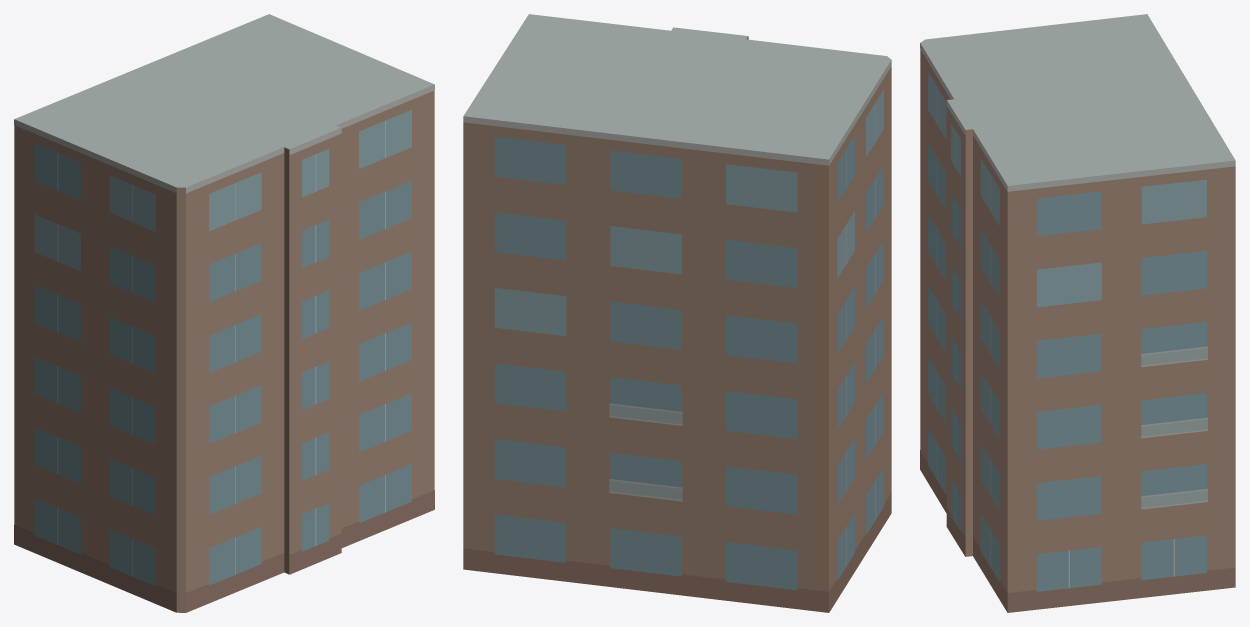
The model's file is survey-upis-32664352.glb.
3 renders of one model, left to right at view 1: azimuth 30°, elevation 25°; view 2: azimuth 150°, elevation 25°; view 3: azimuth 270°, elevation 25°, orthographic. The views are drawn at different scales.
Visible parts, largest first — view 1: survey-upis-32664352.tmp; view 2: survey-upis-32664352.tmp; view 3: survey-upis-32664352.tmp.
Part boxes in pixels (left/top/right/bottom): survey-upis-32664352.tmp: left=14, top=14, right=434, bottom=612; survey-upis-32664352.tmp: left=463, top=14, right=891, bottom=612; survey-upis-32664352.tmp: left=920, top=14, right=1235, bottom=612.
Bounding box in the file's own units: 15.57 × 18 × 12.07.
